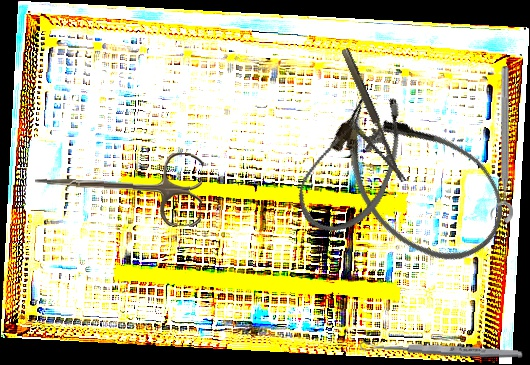Cannula: (306, 76, 527, 287), (289, 78, 417, 246)
Fixation Ring: (489, 66, 513, 224)
Iris Scissors: (33, 148, 204, 227)
Needle Holder: (322, 47, 407, 192)
Surgical Spoon: (359, 340, 524, 360)
